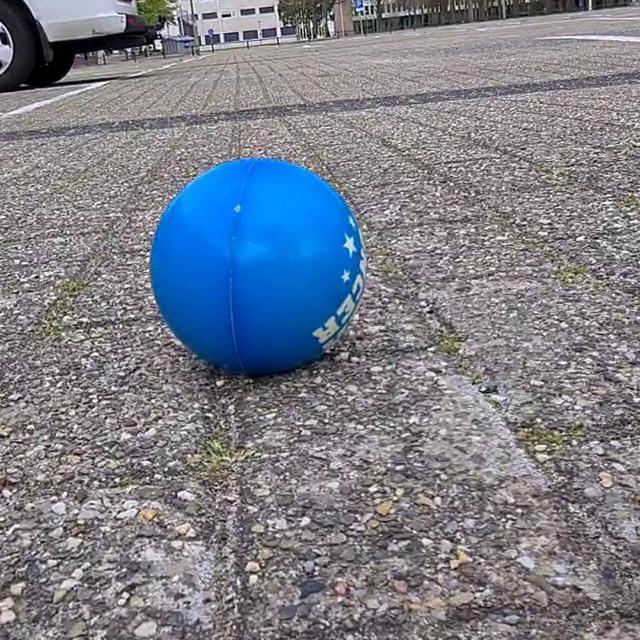ball: (145, 152, 309, 375)
